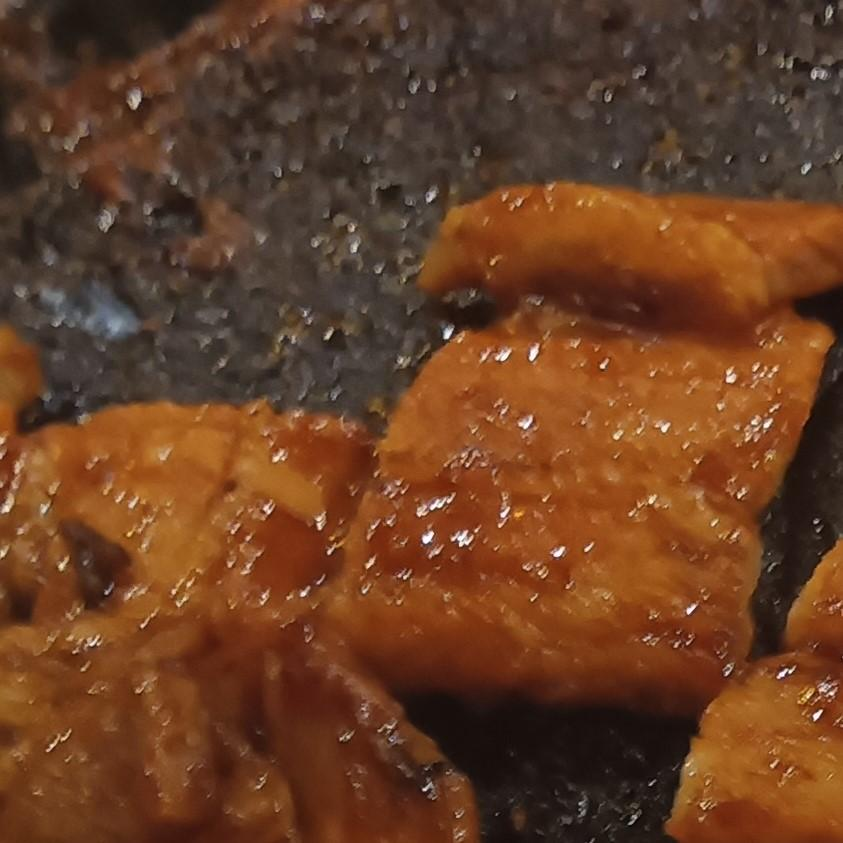Well-Cooked: (0, 184, 842, 842)
